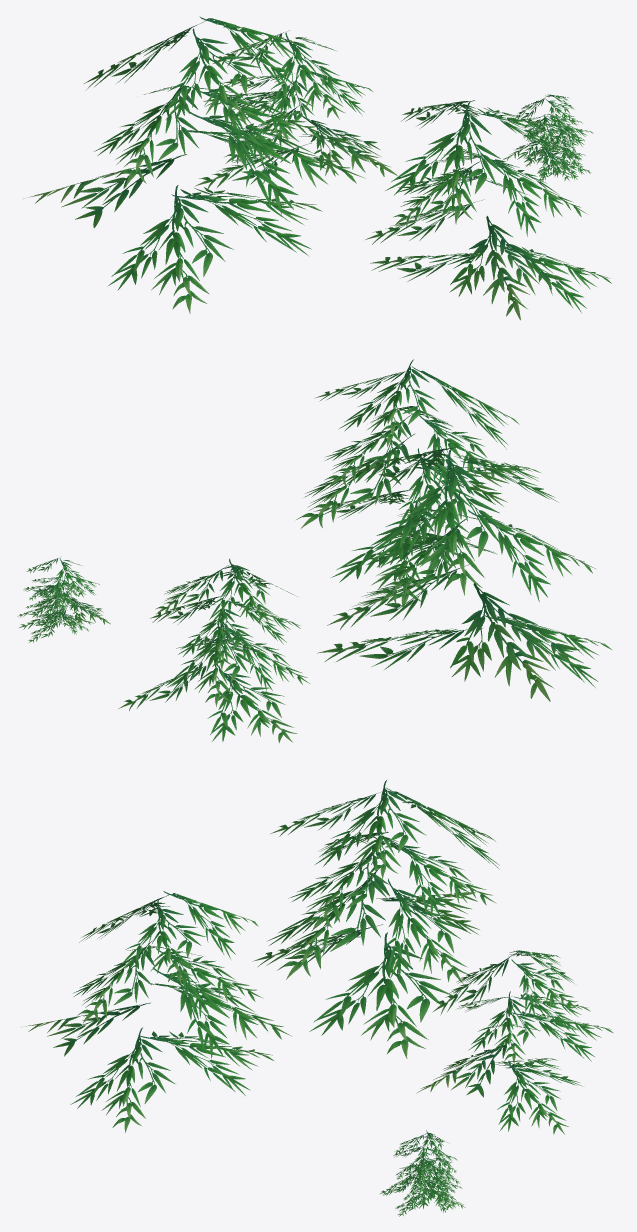
File: Area_09_3.fbx
The picture shows the model from 3 angles, top to bottom: view 1: azimuth 30°, elevation 25°; view 2: azimuth 150°, elevation 25°; view 3: azimuth 270°, elevation 25°; orthographic projection. The views are drawn at different scales.
Parts seen in each view (by area): view 1: Area_09_3; view 2: Area_09_3; view 3: Area_09_3.
Part boxes in pixels (<box>): Area_09_3: <box>23,16,611,320</box>; Area_09_3: <box>17,359,611,742</box>; Area_09_3: <box>21,780,613,1216</box>.
Size of the model in its own units: 4193 by 1898 by 4135.
